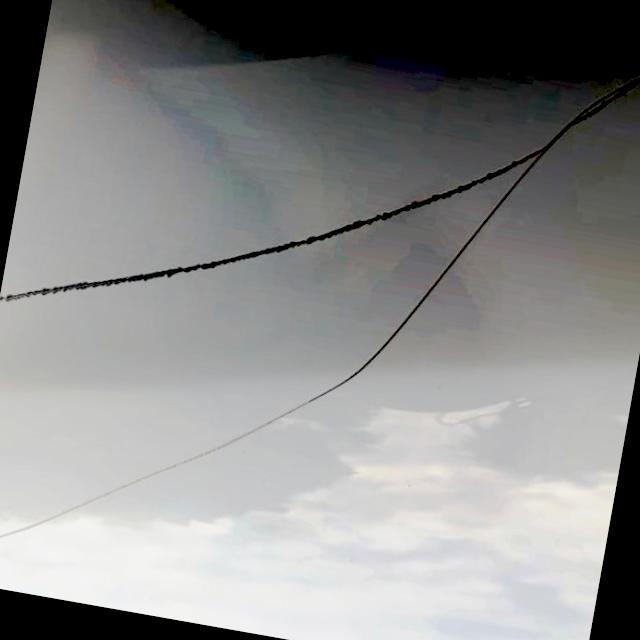crack: (160, 196, 503, 607), (60, 103, 478, 346)
